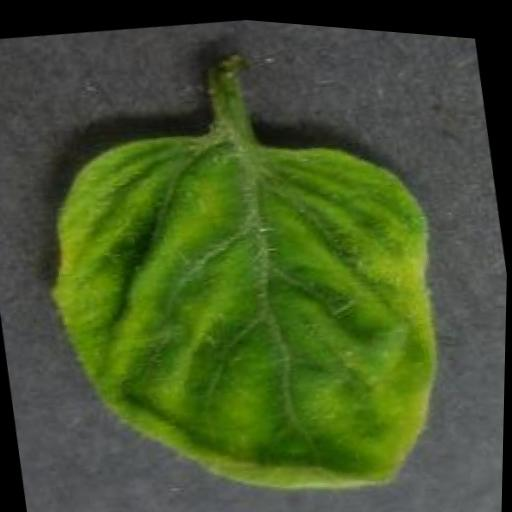Yellow Leaf Curl Virus: (21, 82, 465, 512)
